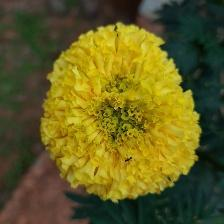marigold: (42, 22, 204, 204)
